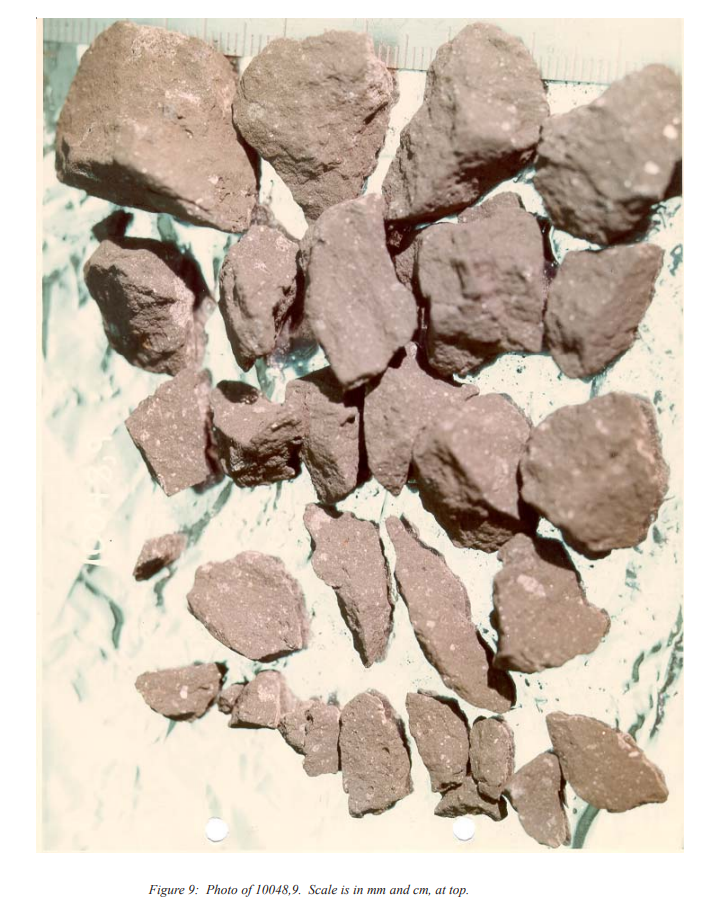Breccia: (48, 38, 704, 860)
